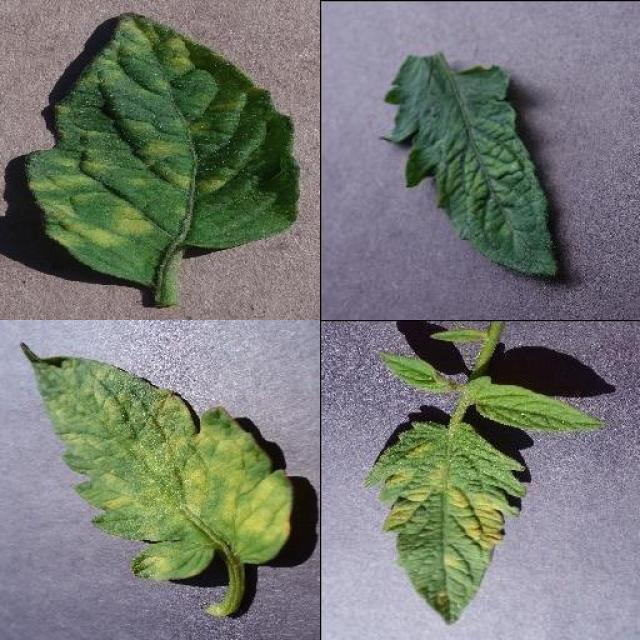Healthy: (472, 377, 602, 432)
